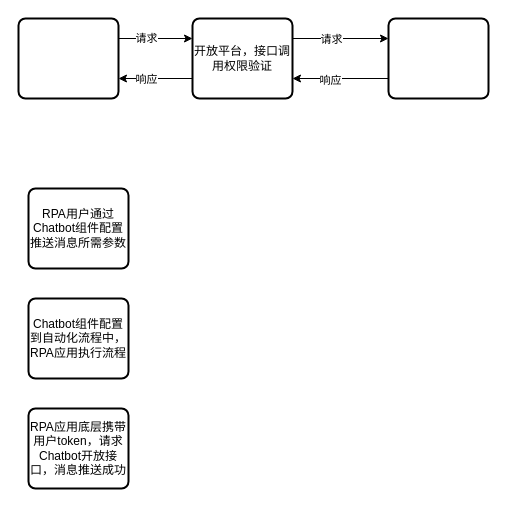
Image size: 506x506. Some labels were removed from this diagram. Each missing label, with the centre of its shape:
"Chatbot 开放接口服务" goes at [438,58].
"调用方" goes at [68,58].
